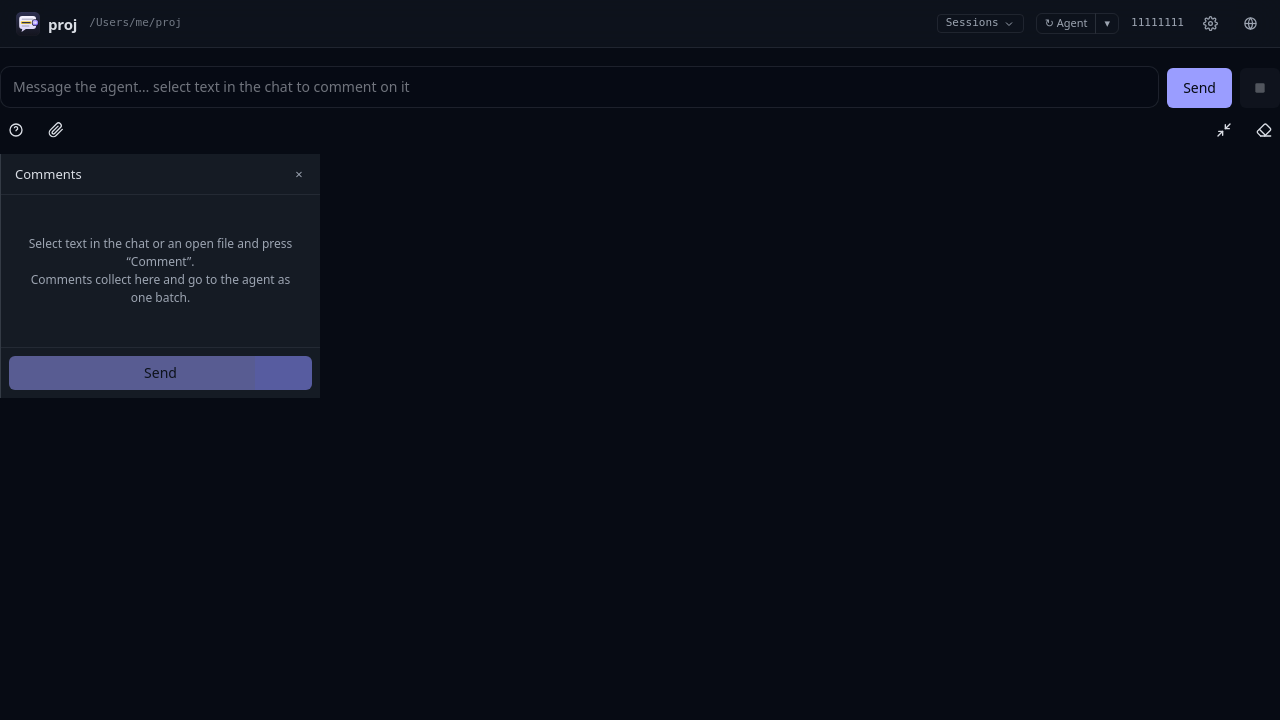
groups: new first, this project marked, then other folders in first-appearance order; meta line id8 · ago · size
Click the button "Sessions".
click(980, 24)  # box 937,14 -> 1024,33
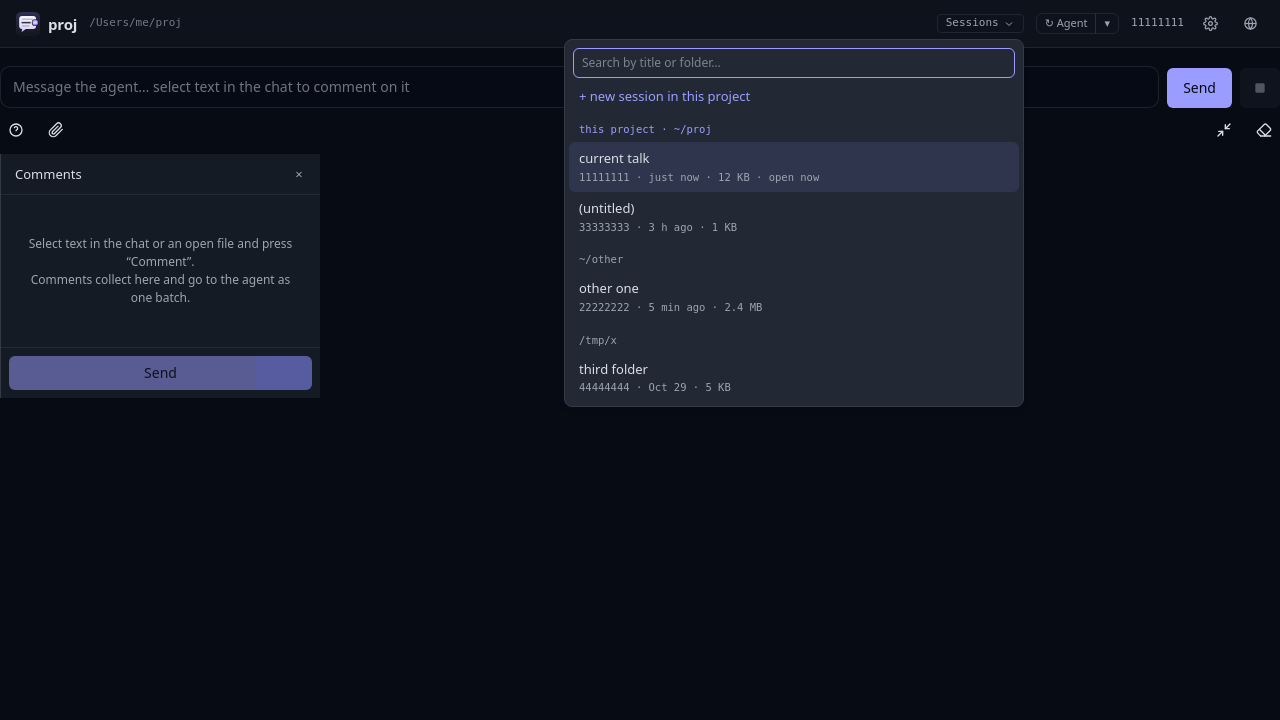
Check: the text "current talk" is shown, box 579,149 -> 650,167
Check: the button "current talk 11111111 · just now · 12 KB · open now" is shown, box 569,142 -> 1019,192
Check: the button "other one 22222222 · 5 min ago · 2.4 MB" is shown, box 569,272 -> 1019,322
